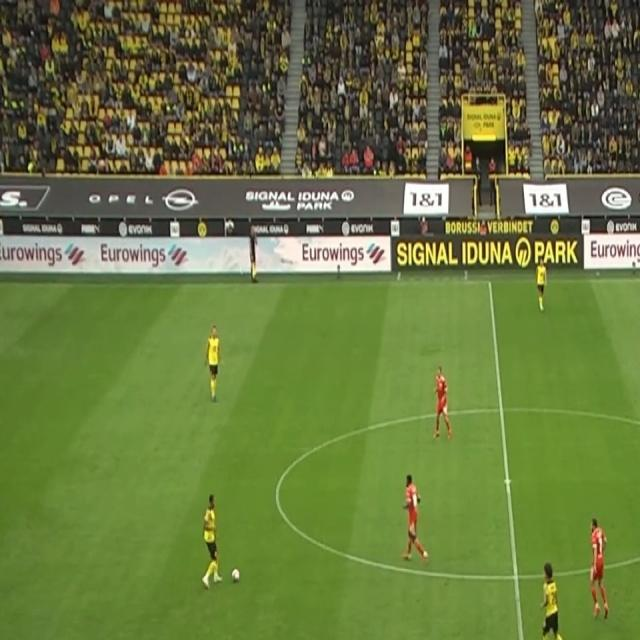ball: (230, 566, 240, 586)
